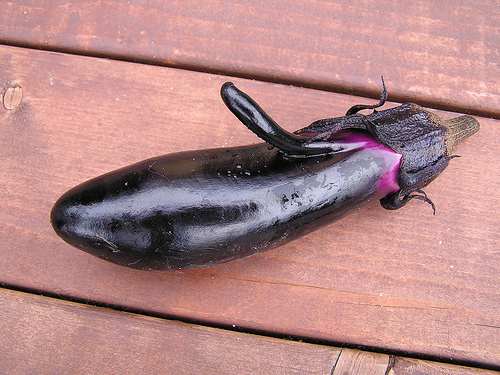eggplant: (46, 74, 435, 282)
